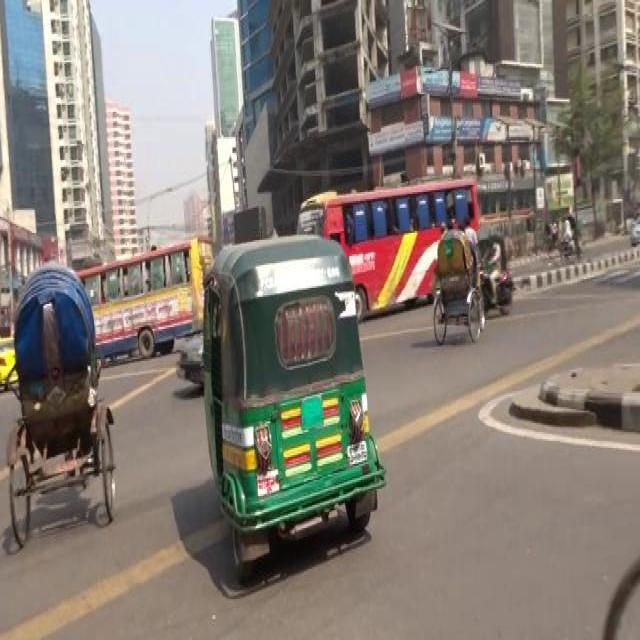10: (480, 266, 514, 314)
13: (8, 260, 116, 548), (431, 227, 485, 342), (555, 209, 581, 264)
16: (0, 338, 17, 386)
17: (200, 233, 388, 571)
Truck: (296, 177, 479, 310), (72, 239, 212, 358)
